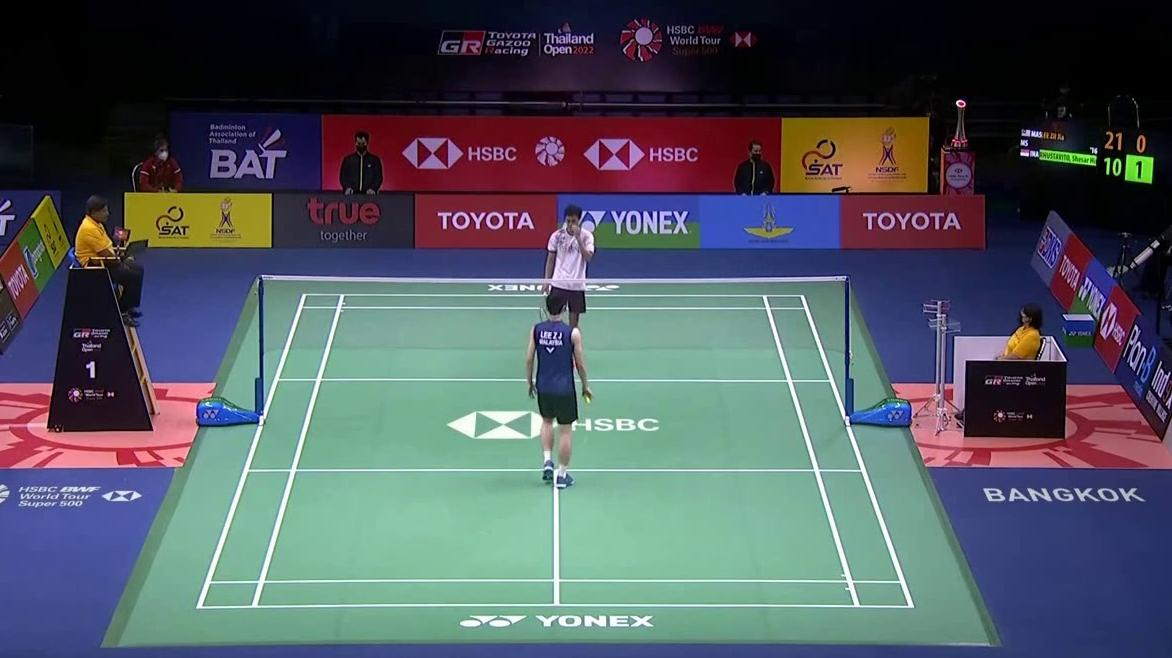racket: (565, 346, 590, 402), (539, 286, 549, 324)
